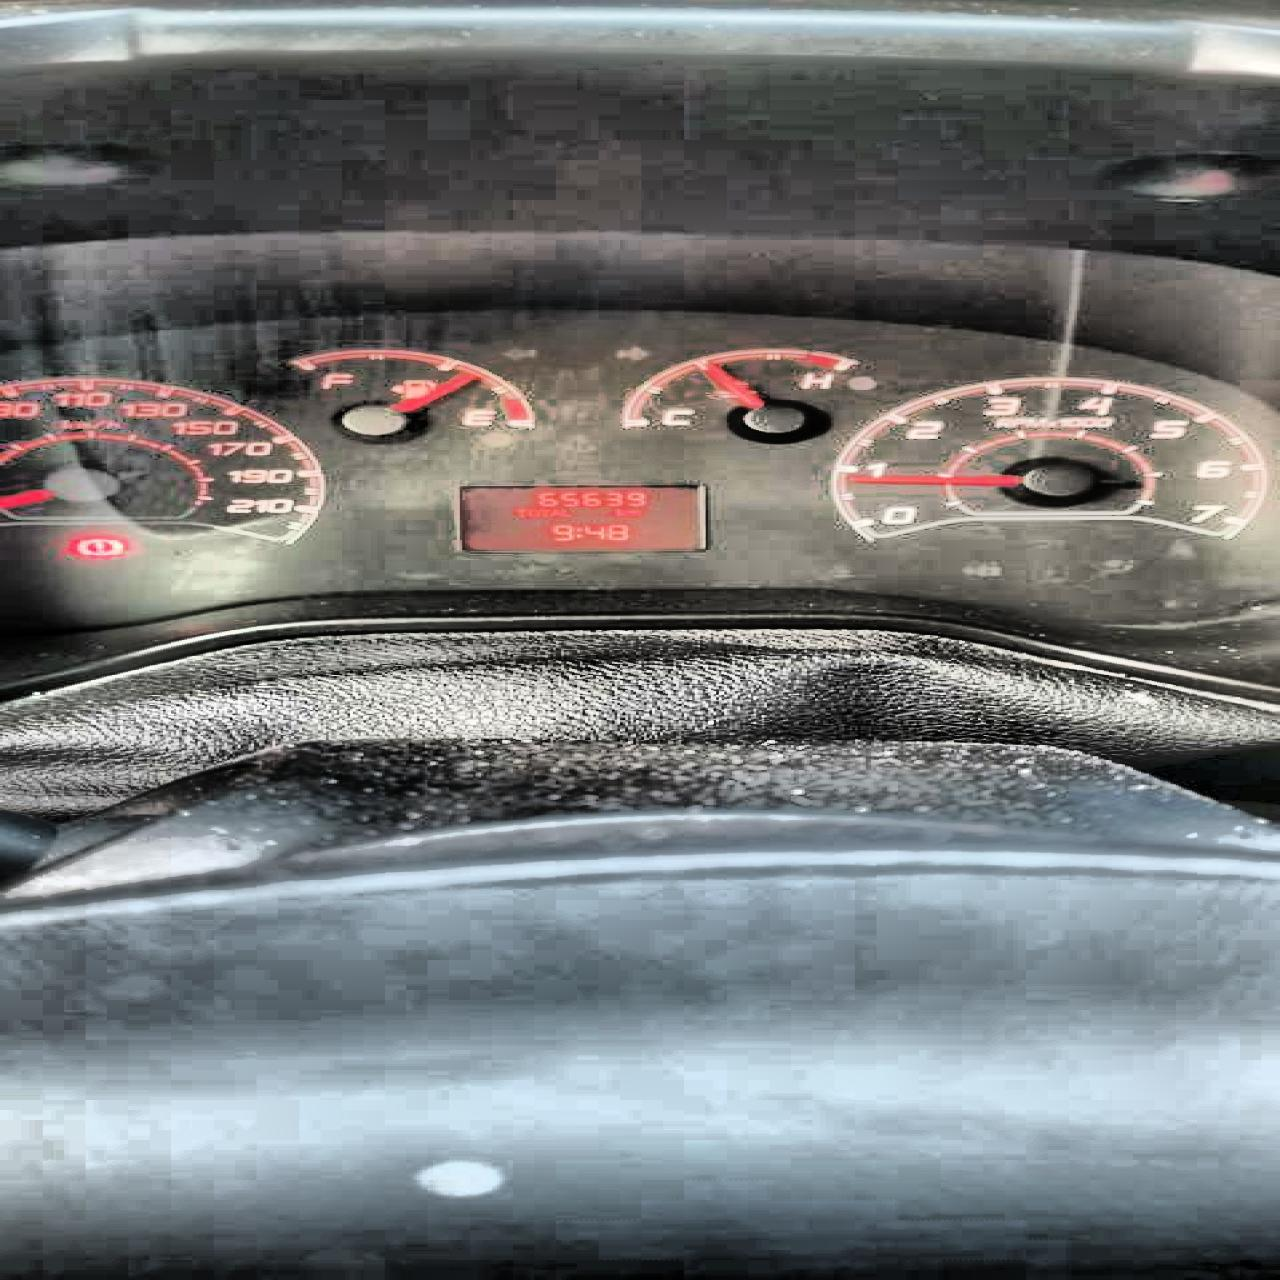3: (601, 491, 620, 506)
4: (583, 524, 604, 538)
5: (559, 491, 577, 506)
6: (535, 491, 556, 505), (580, 491, 598, 505)
8: (604, 523, 628, 539)
9: (549, 524, 572, 540), (625, 491, 644, 505)
X: (572, 525, 583, 539), (622, 509, 641, 516), (524, 508, 537, 517), (513, 508, 524, 517), (537, 508, 547, 517), (547, 508, 558, 517), (559, 508, 570, 517), (614, 508, 622, 517)
odometer: (449, 478, 713, 551)
